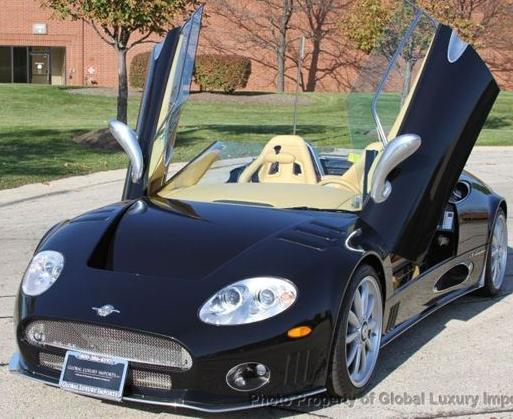front_view: (18, 240, 328, 402)
headlight: (184, 265, 301, 333)
